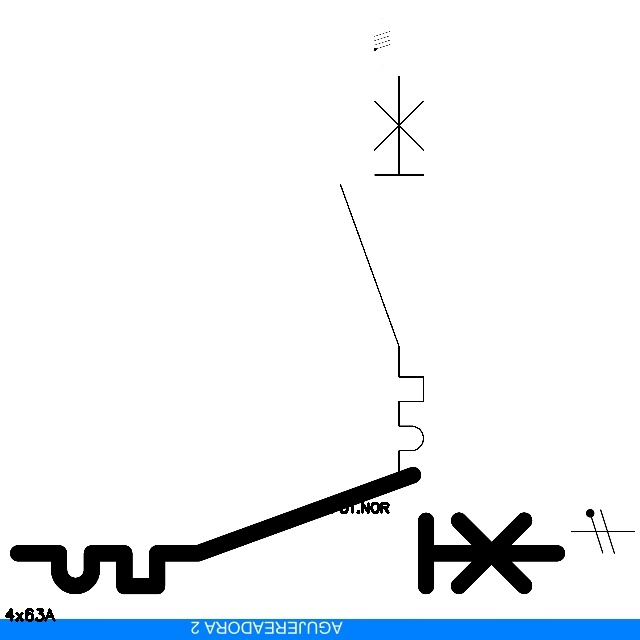interruptor_termomagnetico: (4, 461, 571, 600), (330, 66, 434, 492)
